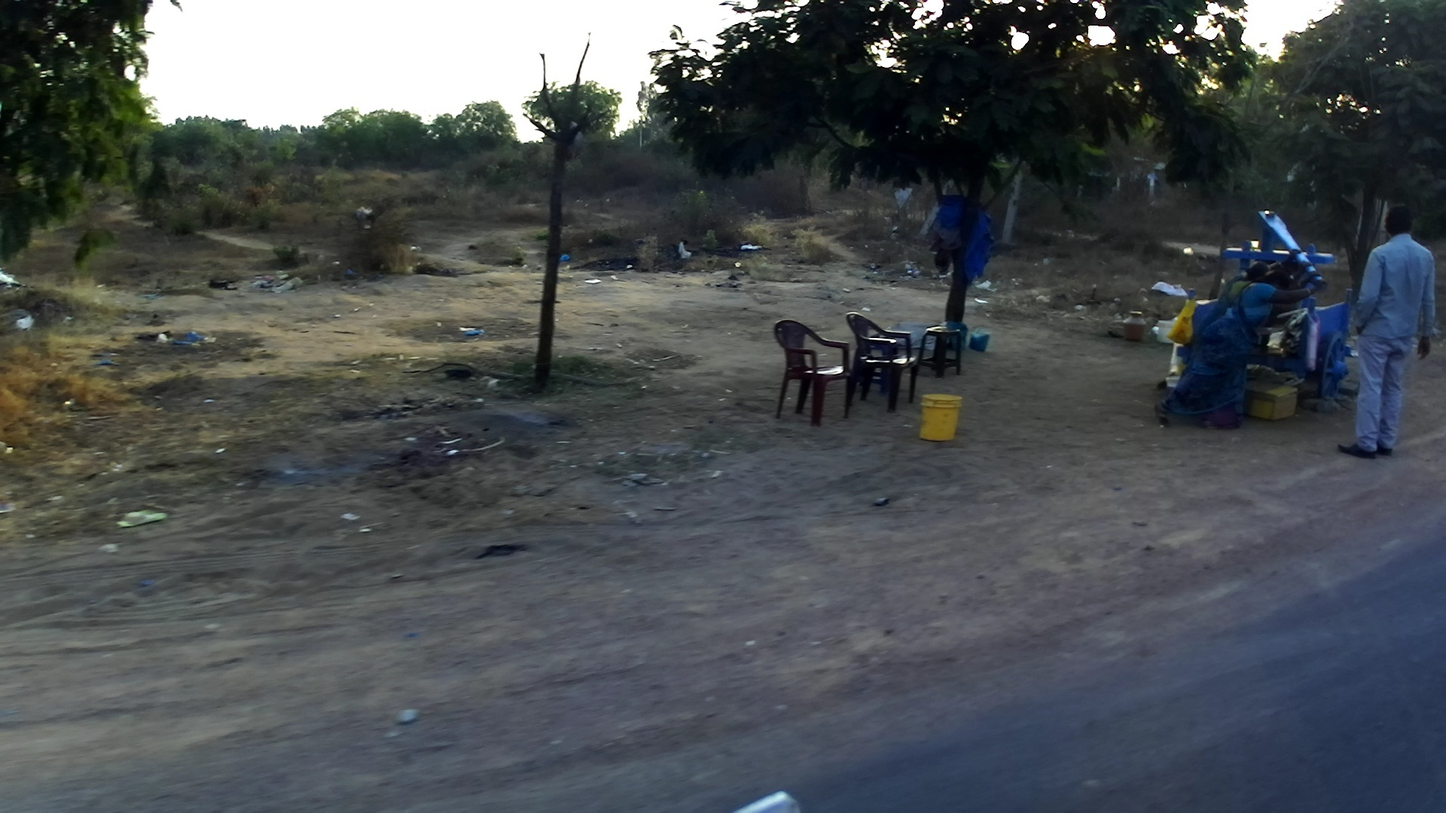person: (1142, 261, 1319, 438), (1335, 205, 1441, 464), (1178, 260, 1277, 360)
vehicle fallback: (1172, 203, 1356, 416)
